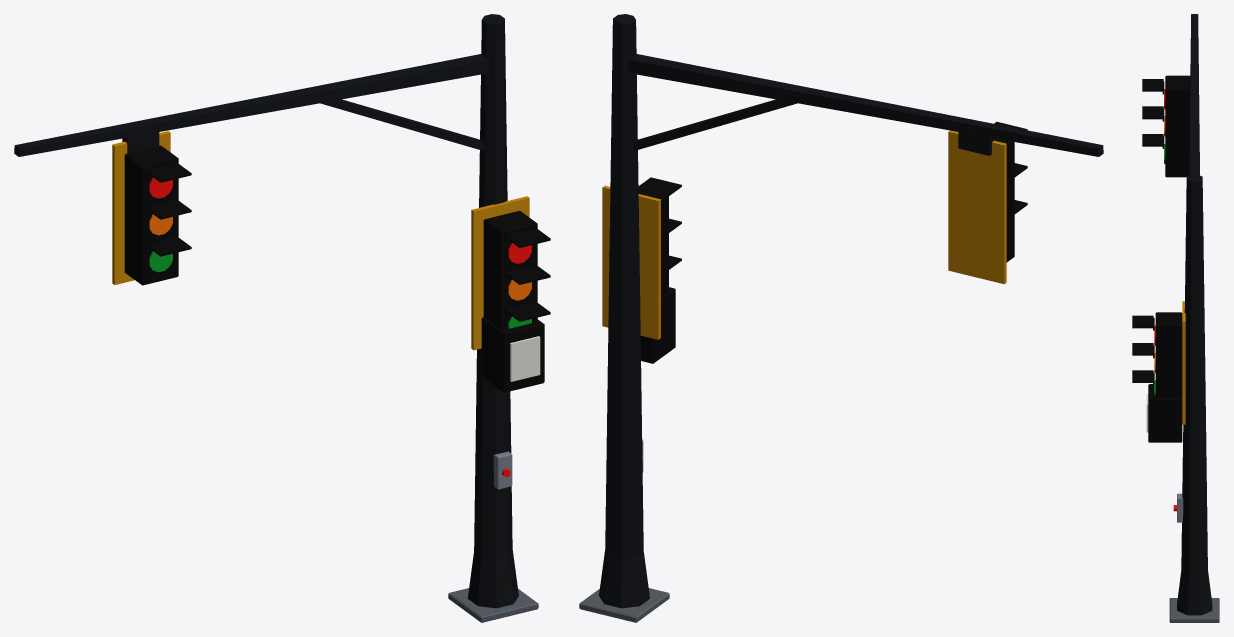
File: WL_Prop_TrafficLight_A.obj
The picture shows the model from 3 angles, left to right: view 1: azimuth 30°, elevation 25°; view 2: azimuth 150°, elevation 25°; view 3: azimuth 270°, elevation 25°; orthographic projection. The views are drawn at different scales.
Visible parts, largest first — view 1: WL_Prop_TrafficLight_A_Pole, WL_Prop_TrafficLight_A_Mast_Arm, WL_Prop_TrafficLight_A_Head_Arm_Housing, WL_Prop_TrafficLight_A_Head_Pole_Housing, WL_Prop_TrafficLight_A_Ped_Signal_Housing, WL_Prop_TrafficLight_A_Head_Pole_Backplate, WL_Prop_TrafficLight_A_Head_Arm_Backplate, WL_Prop_TrafficLight_A_Mast_Gusset, WL_Prop_TrafficLight_A_Head_Arm_Visors, WL_Prop_TrafficLight_A_Head_Pole_Visors, WL_Prop_TrafficLight_A_Base_Plate, WL_Prop_TrafficLight_A_Ped_Signal_Lens; view 2: WL_Prop_TrafficLight_A_Pole, WL_Prop_TrafficLight_A_Mast_Arm, WL_Prop_TrafficLight_A_Head_Arm_Backplate, WL_Prop_TrafficLight_A_Head_Pole_Backplate, WL_Prop_TrafficLight_A_Mast_Gusset, WL_Prop_TrafficLight_A_Ped_Signal_Housing, WL_Prop_TrafficLight_A_Base_Plate, WL_Prop_TrafficLight_A_Head_Arm_Housing, WL_Prop_TrafficLight_A_Head_Pole_Housing; view 3: WL_Prop_TrafficLight_A_Pole, WL_Prop_TrafficLight_A_Head_Arm_Housing, WL_Prop_TrafficLight_A_Head_Pole_Housing, WL_Prop_TrafficLight_A_Ped_Signal_Housing, WL_Prop_TrafficLight_A_Mast_Arm, WL_Prop_TrafficLight_A_Head_Arm_Visors, WL_Prop_TrafficLight_A_Head_Pole_Visors, WL_Prop_TrafficLight_A_Base_Plate, WL_Prop_TrafficLight_A_Head_Pole_Backplate, WL_Prop_TrafficLight_A_Button_Box.
Boxes of the visible parts, x1=… form: WL_Prop_TrafficLight_A_Pole: x1=467, y1=14, x2=518, y2=608; WL_Prop_TrafficLight_A_Mast_Arm: x1=14, y1=54, x2=489, y2=156; WL_Prop_TrafficLight_A_Head_Arm_Housing: x1=124, y1=145, x2=178, y2=285; WL_Prop_TrafficLight_A_Head_Pole_Housing: x1=483, y1=210, x2=537, y2=329; WL_Prop_TrafficLight_A_Ped_Signal_Housing: x1=481, y1=317, x2=544, y2=392; WL_Prop_TrafficLight_A_Head_Pole_Backplate: x1=471, y1=196, x2=529, y2=350; WL_Prop_TrafficLight_A_Head_Arm_Backplate: x1=112, y1=131, x2=170, y2=284; WL_Prop_TrafficLight_A_Mast_Gusset: x1=320, y1=99, x2=484, y2=151; WL_Prop_TrafficLight_A_Head_Arm_Visors: x1=145, y1=163, x2=191, y2=256; WL_Prop_TrafficLight_A_Head_Pole_Visors: x1=504, y1=228, x2=550, y2=321; WL_Prop_TrafficLight_A_Base_Plate: x1=448, y1=588, x2=538, y2=622; WL_Prop_TrafficLight_A_Ped_Signal_Lens: x1=510, y1=336, x2=540, y2=381; WL_Prop_TrafficLight_A_Pole: x1=599, y1=14, x2=649, y2=608; WL_Prop_TrafficLight_A_Mast_Arm: x1=627, y1=54, x2=1103, y2=156; WL_Prop_TrafficLight_A_Head_Arm_Backplate: x1=948, y1=130, x2=1006, y2=284; WL_Prop_TrafficLight_A_Head_Pole_Backplate: x1=602, y1=185, x2=660, y2=339; WL_Prop_TrafficLight_A_Mast_Gusset: x1=633, y1=99, x2=796, y2=151; WL_Prop_TrafficLight_A_Ped_Signal_Housing: x1=640, y1=287, x2=675, y2=363; WL_Prop_TrafficLight_A_Base_Plate: x1=579, y1=588, x2=669, y2=622; WL_Prop_TrafficLight_A_Head_Arm_Housing: x1=995, y1=138, x2=1014, y2=262; WL_Prop_TrafficLight_A_Head_Pole_Housing: x1=638, y1=187, x2=668, y2=296; WL_Prop_TrafficLight_A_Pole: x1=1177, y1=174, x2=1212, y2=615; WL_Prop_TrafficLight_A_Head_Arm_Housing: x1=1165, y1=75, x2=1190, y2=177; WL_Prop_TrafficLight_A_Head_Pole_Housing: x1=1155, y1=312, x2=1182, y2=397; WL_Prop_TrafficLight_A_Ped_Signal_Housing: x1=1148, y1=384, x2=1182, y2=442; WL_Prop_TrafficLight_A_Mast_Arm: x1=1189, y1=14, x2=1199, y2=175; WL_Prop_TrafficLight_A_Head_Arm_Visors: x1=1142, y1=79, x2=1164, y2=148; WL_Prop_TrafficLight_A_Head_Pole_Visors: x1=1132, y1=315, x2=1154, y2=385; WL_Prop_TrafficLight_A_Base_Plate: x1=1169, y1=598, x2=1219, y2=622; WL_Prop_TrafficLight_A_Head_Pole_Backplate: x1=1182, y1=301, x2=1185, y2=424; WL_Prop_TrafficLight_A_Button_Box: x1=1177, y1=493, x2=1183, y2=522.
Bounding box in the file's own units: 4.88 × 5.4 × 0.98.
